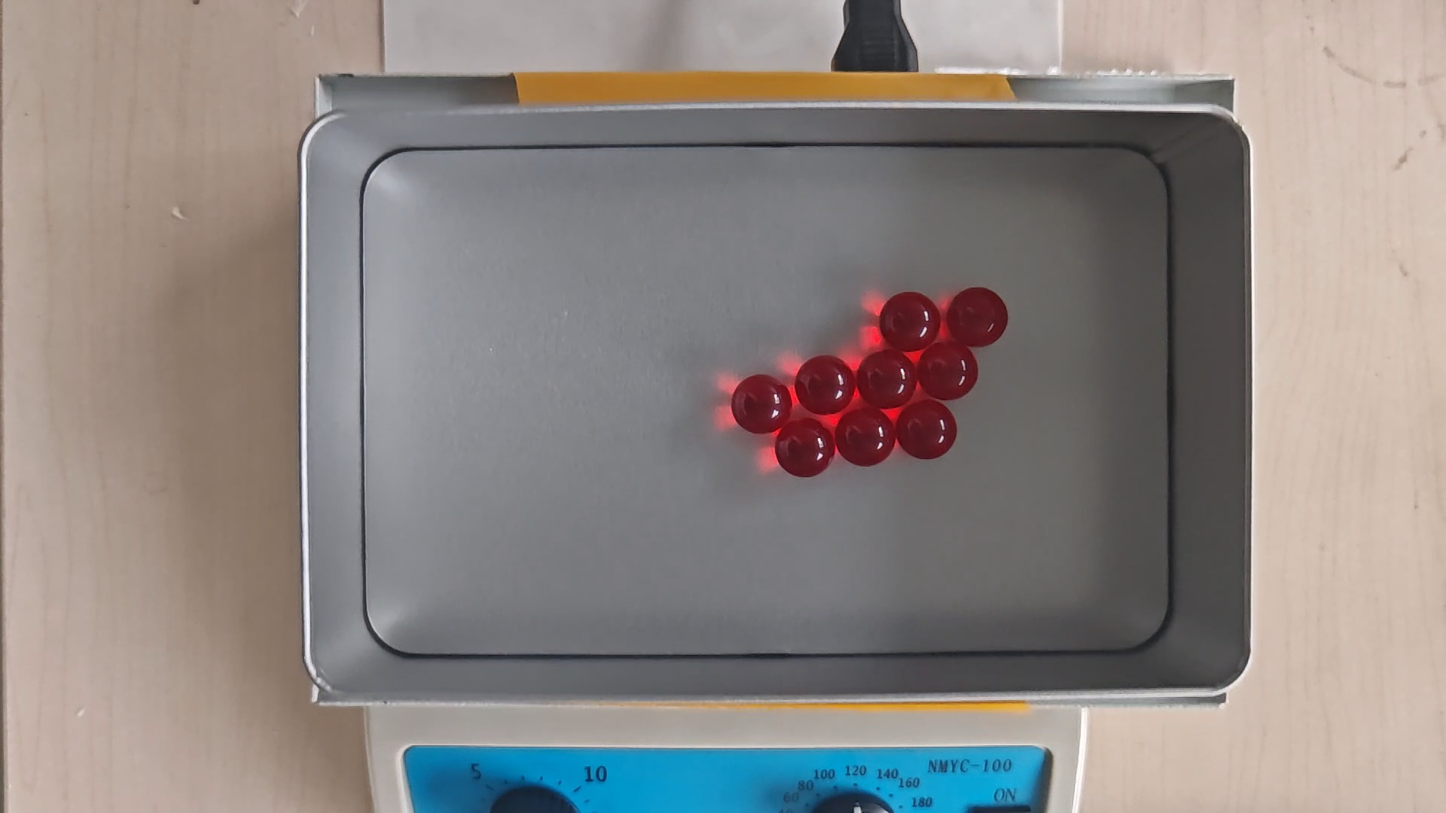ball: (880, 290, 941, 351), (795, 354, 855, 415), (948, 286, 1009, 346), (898, 400, 958, 460), (732, 374, 791, 435), (858, 350, 917, 410), (776, 417, 834, 478), (837, 407, 895, 468), (920, 343, 978, 400)
container: (362, 145, 1170, 655)
